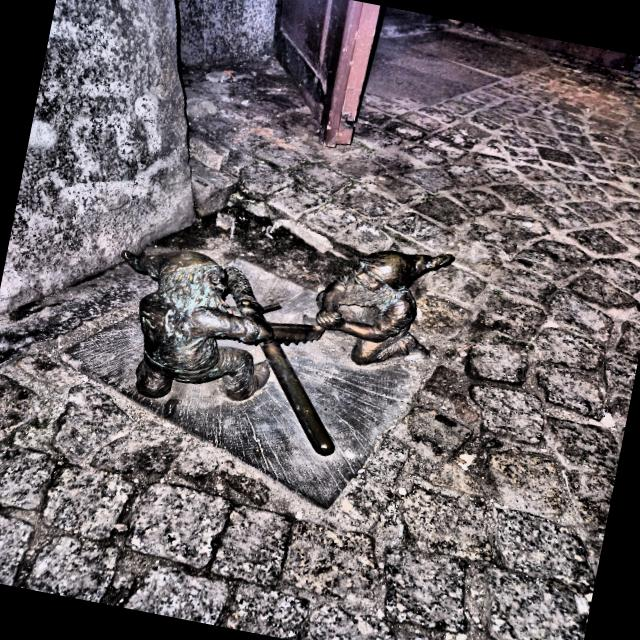Wyrostek i Zadymek: (122, 250, 453, 455)
